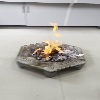fire: (34, 22, 62, 59)
